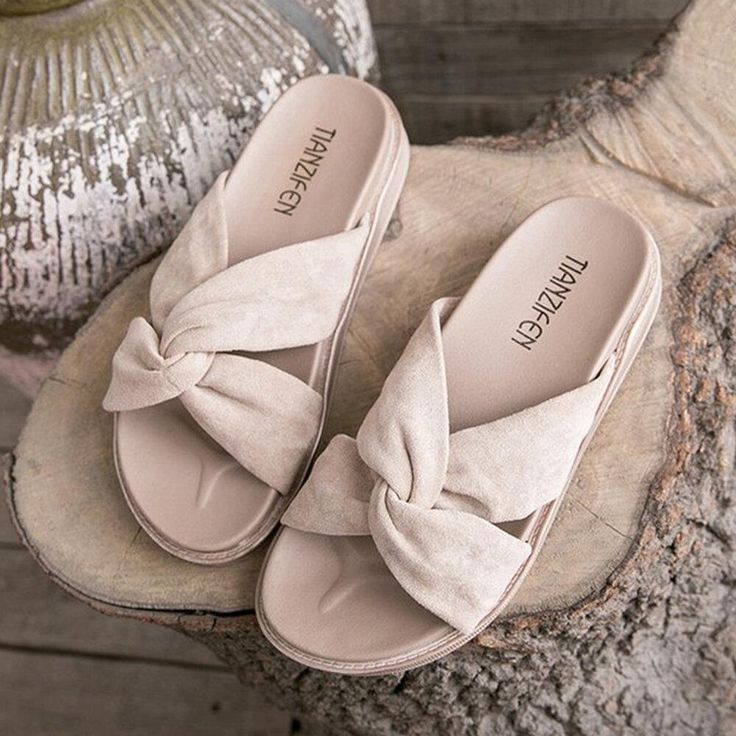gamuza: (103, 169, 619, 637)
